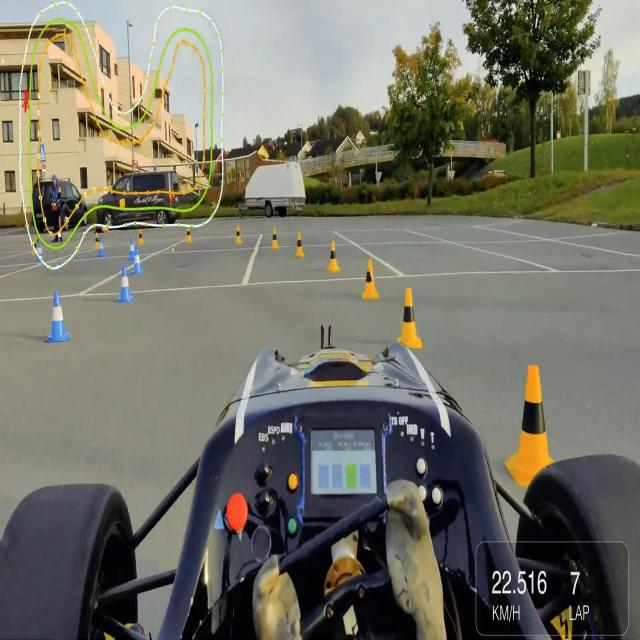blue_cone: (44, 284, 70, 349), (117, 265, 134, 304), (134, 247, 142, 275), (128, 237, 135, 261), (37, 242, 44, 264), (99, 238, 104, 256)
yellow_cone: (502, 354, 562, 486), (396, 285, 423, 350), (359, 257, 380, 301), (326, 238, 340, 274), (294, 230, 304, 259), (270, 224, 280, 249), (234, 223, 243, 246), (137, 228, 145, 246), (185, 226, 192, 244), (32, 237, 38, 257), (94, 232, 100, 251)
